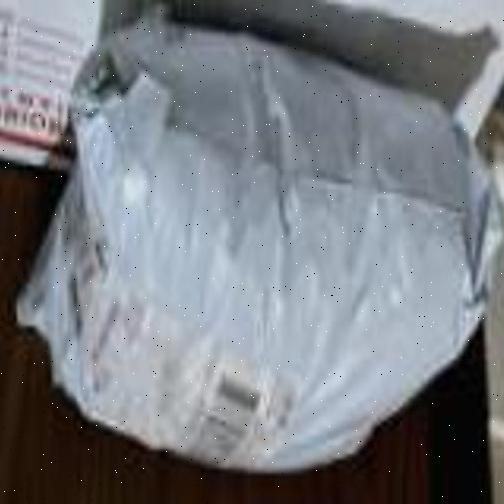Other: (29, 21, 484, 476), (0, 0, 156, 159)
